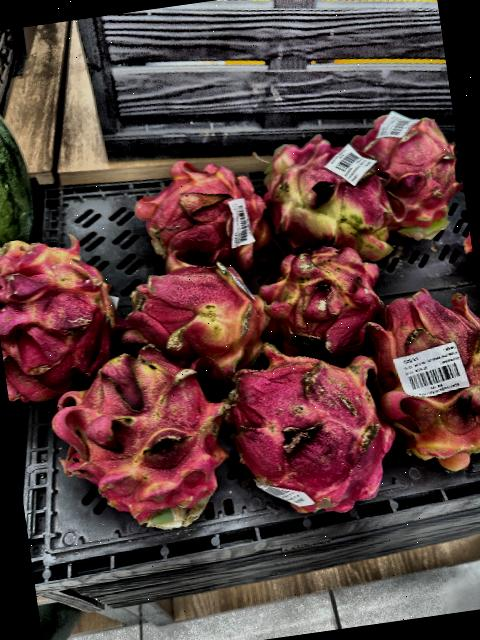buah-naga-belum-matang: (46, 336, 255, 548), (225, 337, 402, 517), (246, 124, 410, 288), (359, 273, 480, 490), (0, 222, 122, 402), (116, 248, 266, 386), (137, 154, 276, 279), (358, 106, 470, 248), (264, 238, 384, 354)
